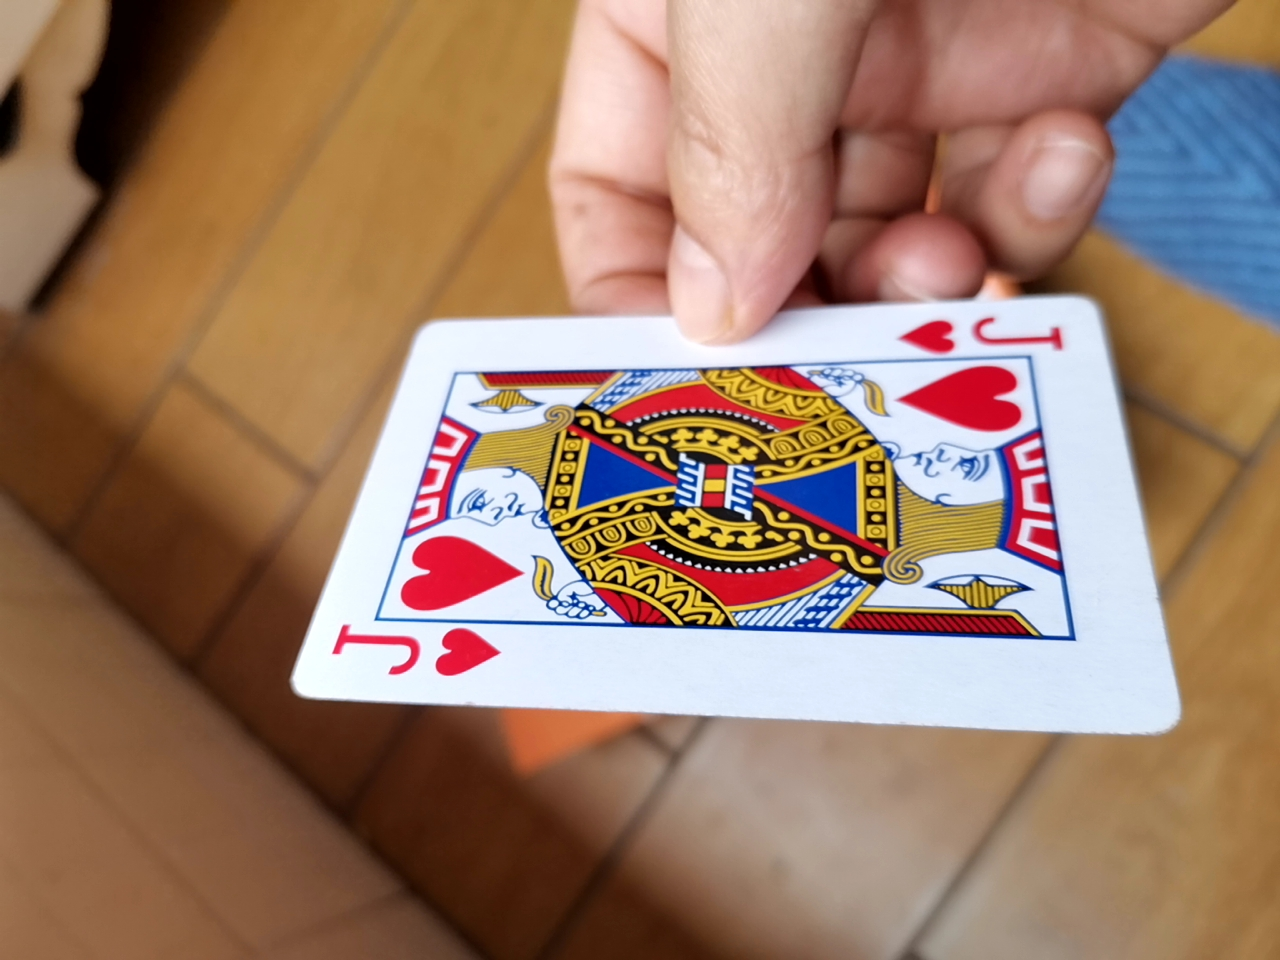hx j: (285, 282, 1178, 736)
